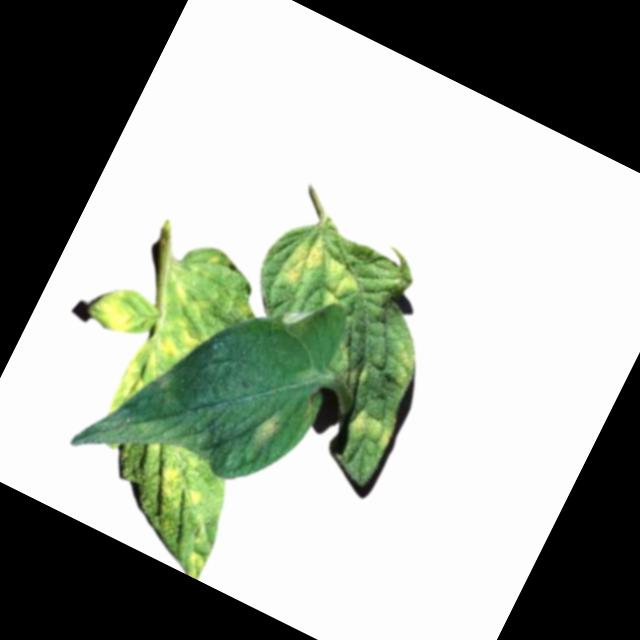Leaf_Mold: (104, 268, 225, 433), (272, 226, 371, 319), (146, 457, 210, 519), (85, 282, 144, 338), (343, 406, 396, 452), (384, 343, 421, 388), (253, 405, 286, 444), (176, 544, 211, 580)
